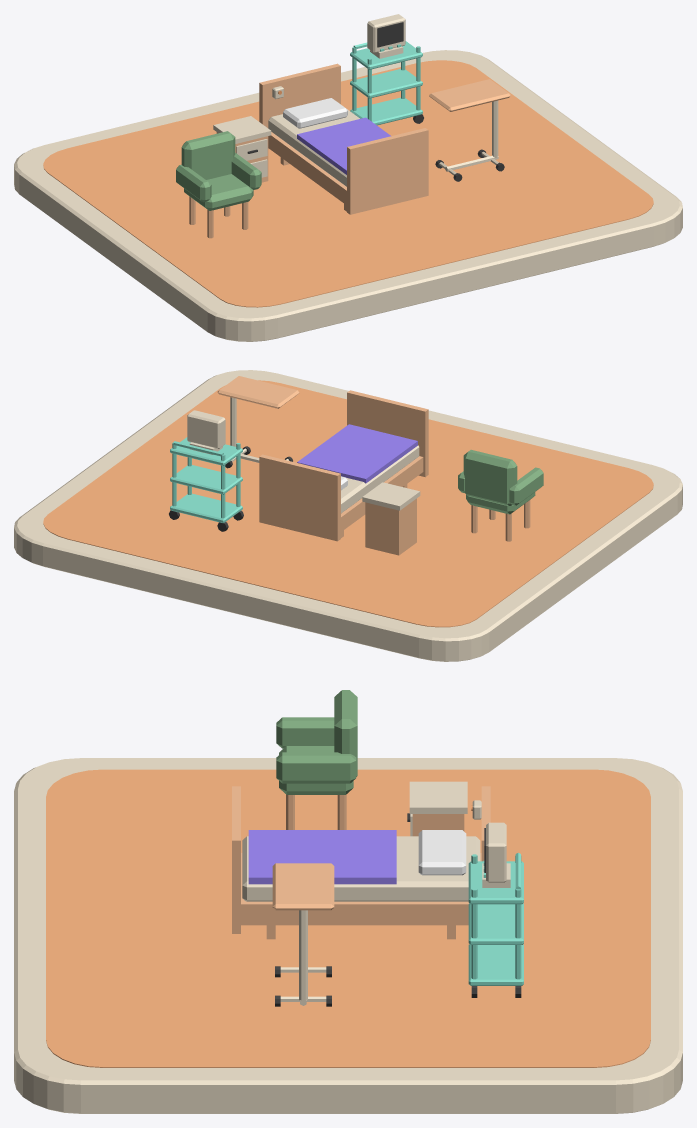
The model's file is room.fbx.
3 renders of one model, top to bottom at view 1: azimuth 30°, elevation 25°; view 2: azimuth 150°, elevation 25°; view 3: azimuth 270°, elevation 25°, orthographic. The views are drawn at different scales.
Visible parts, largest first — view 1: COM-02 Floor Surface, COM-01 Rounded Base Direct, End board, End board.001, Blanket, Back, Mattress, Table top, Frame, Cushion, Pillow, Tray.001 (+7 smaller); view 2: COM-02 Floor Surface, COM-01 Rounded Base Direct, End board.001, Blanket, End board, Body, Back, Table top, Housing, Mattress, Tray, Tray.001 (+5 smaller); view 3: COM-02 Floor Surface, COM-01 Rounded Base Direct, Blanket, Mattress, Frame, Table top, Arm.001, Pillow, Tray, Tray.001, Top, Arm (+7 smaller).
Boxes of the visible parts, <box> form: COM-02 Floor Surface: <box>43,60,653,307</box>; COM-01 Rounded Base Direct: <box>14,50,682,341</box>; End board: <box>347,128,428,214</box>; End board.001: <box>259,63,340,148</box>; Blanket: <box>297,117,391,174</box>; Back: <box>181,131,235,179</box>; Mattress: <box>268,102,359,186</box>; Table top: <box>429,79,510,111</box>; Frame: <box>268,132,346,205</box>; Cushion: <box>184,174,253,210</box>; Pillow: <box>283,98,347,128</box>; Tray.001: <box>350,69,422,98</box>; COM-02 Floor Surface: <box>43,380,653,627</box>; COM-01 Rounded Base Direct: <box>14,370,682,661</box>; End board.001: <box>259,454,340,541</box>; Blanket: <box>297,424,417,483</box>; End board: <box>347,390,428,477</box>; Body: <box>365,498,416,555</box>; Back: <box>463,449,517,505</box>; Table top: <box>217,376,299,408</box>; Housing: <box>187,410,225,448</box>; Mattress: <box>341,445,419,513</box>; Tray: <box>170,493,242,523</box>; Tray.001: <box>170,465,242,494</box>; COM-02 Floor Surface: <box>46,769,650,1067</box>; COM-01 Rounded Base Direct: <box>14,758,682,1113</box>; Blanket: <box>248,830,396,884</box>; Mattress: <box>242,836,480,901</box>; Frame: <box>241,853,481,925</box>; Table top: <box>272,863,334,910</box>; Arm.001: <box>276,752,356,783</box>; Pillow: <box>418,830,466,875</box>; Tray: <box>468,944,523,985</box>; Tray.001: <box>468,903,523,944</box>; Top: <box>409,781,467,813</box>; Arm: <box>276,717,334,748</box>.
Bounding box in the file's own units: 600 × 156 × 520.
